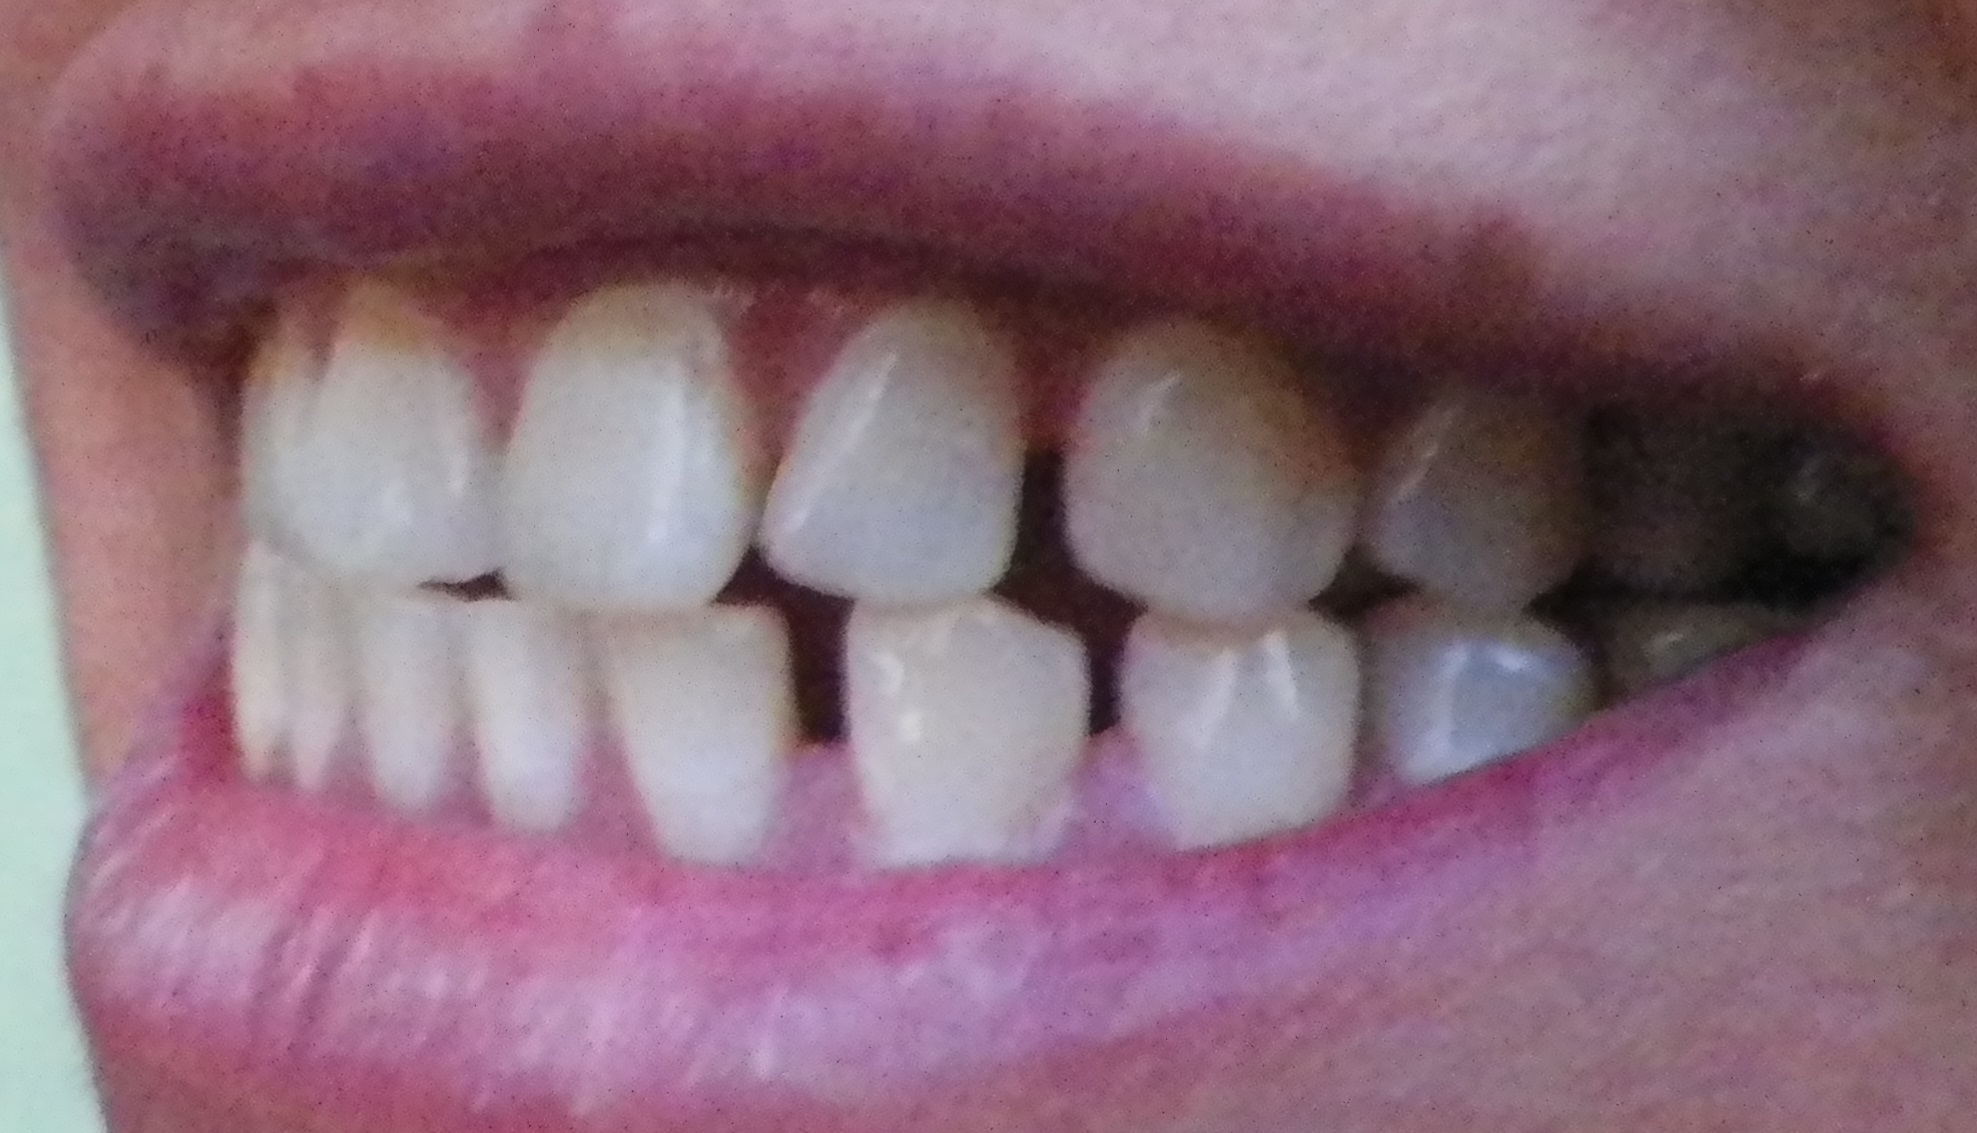boca: (181, 287, 1777, 865)
